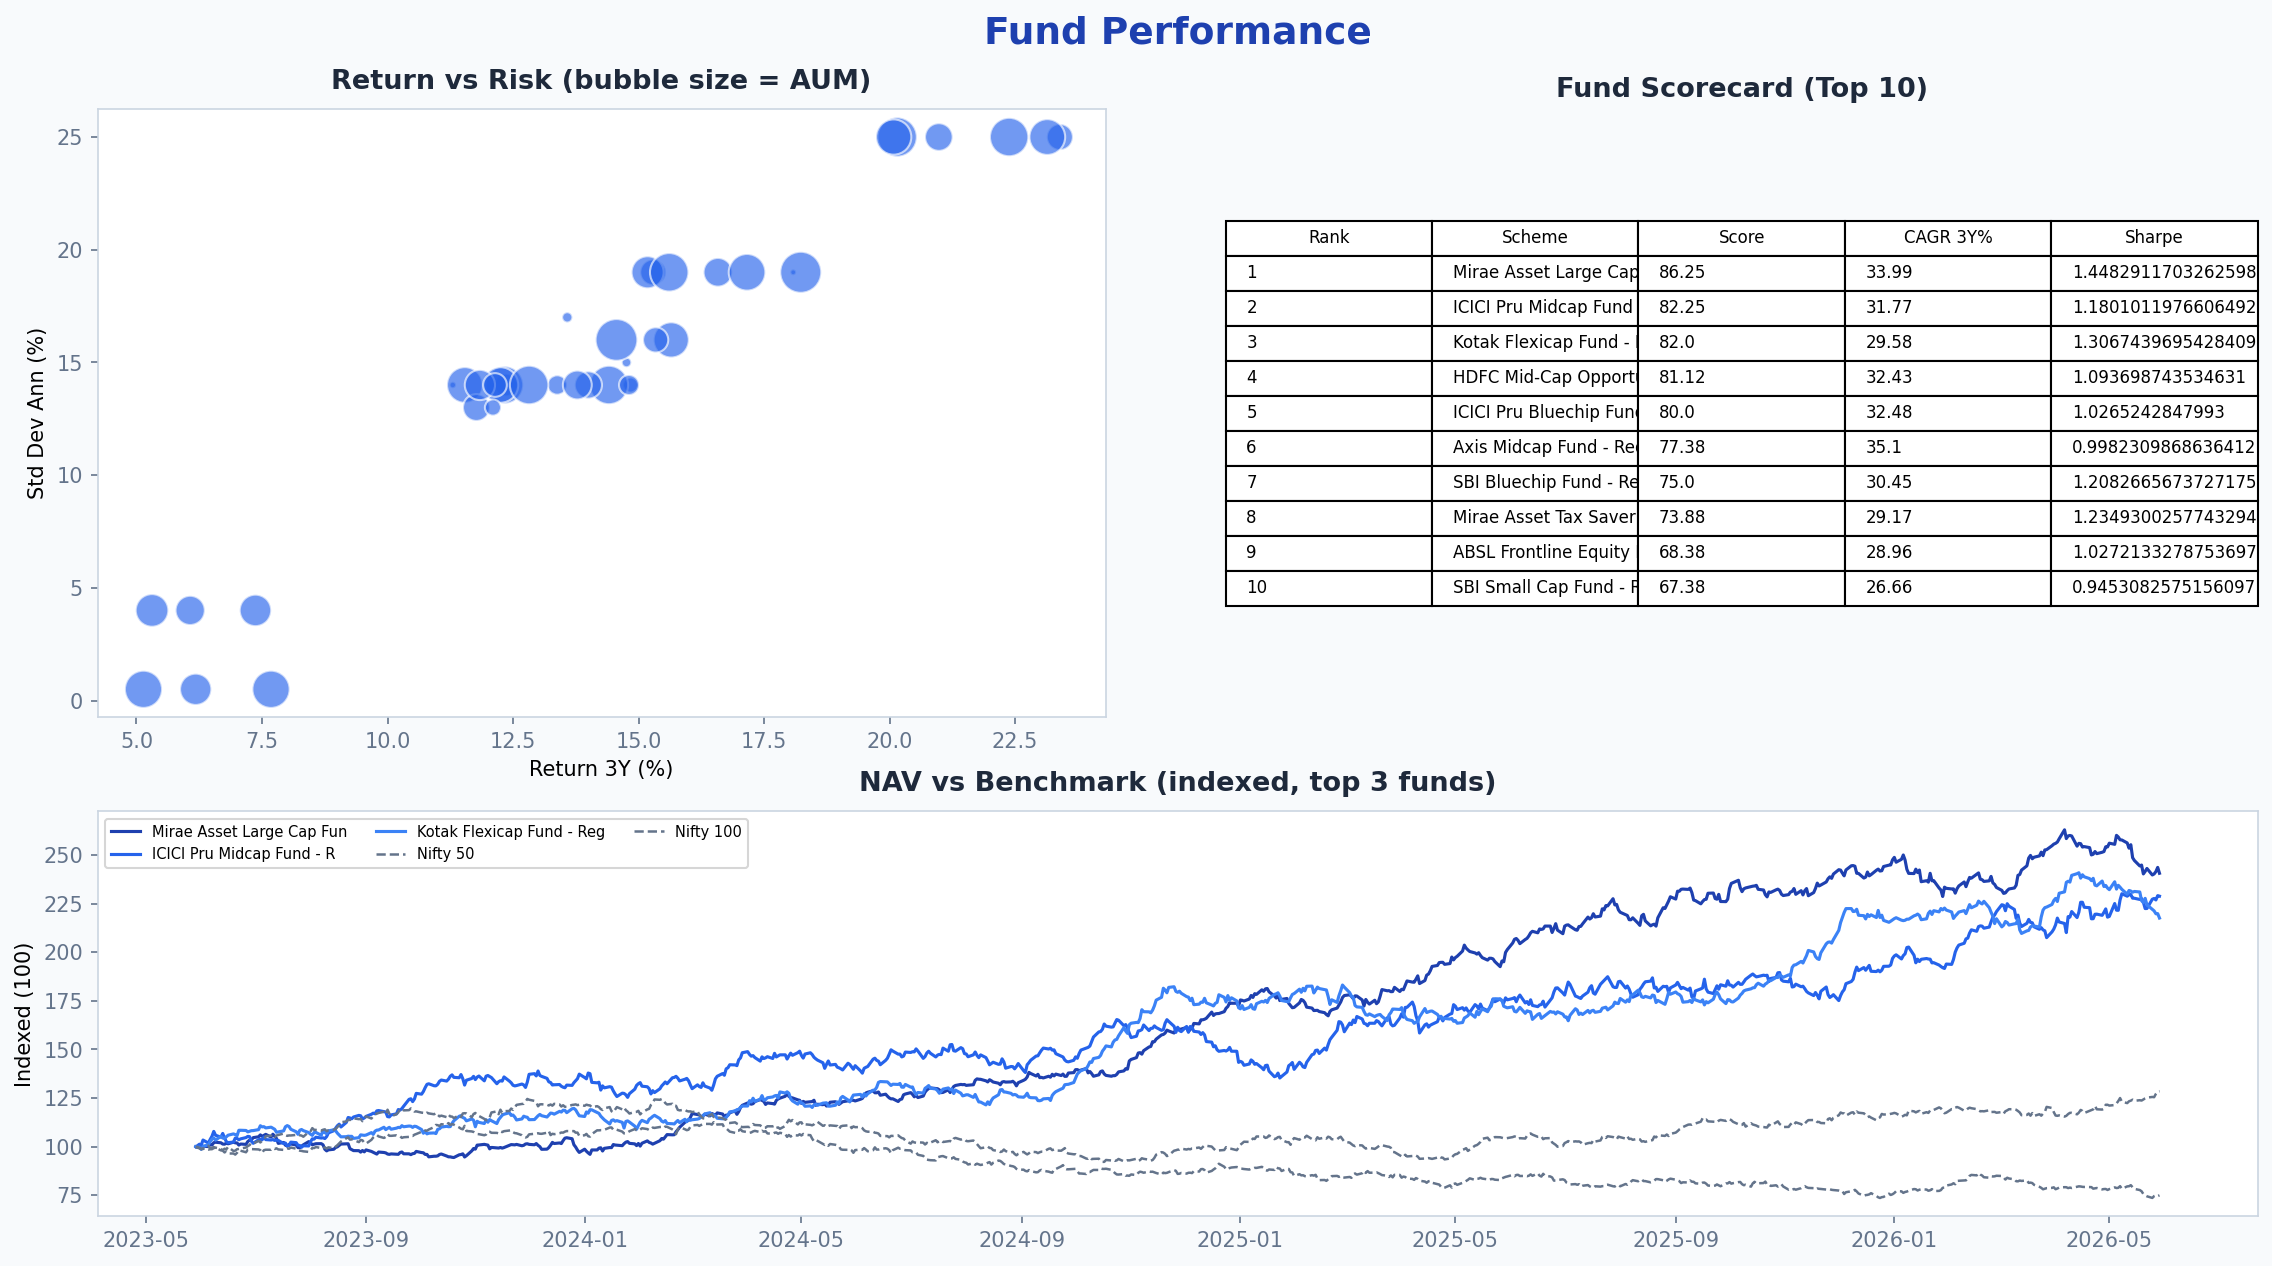

Layout of this report page (visuals, bound fields, positions):
{"tool":"powerbi","page":{"name":"Fund Performance","canvas":[1280,720],"ordinal":1},"visuals":[{"type":"image","box":[1100,0,160,50]},{"type":"slicer","fields":{"Values":["dim_fund.fund_house"]},"box":[20,20,200,100]},{"type":"slicer","fields":{"Values":["dim_fund.category"]},"box":[240,20,200,100]},{"type":"slicer","fields":{"Values":["dim_fund.plan"]},"box":[460,20,200,100]},{"type":"tableEx","fields":{"Values":["fund_scorecard.overall_rank","fund_scorecard.scheme_name","fund_scorecard.fund_score","fund_scorecard.cagr_3yr_pct","fund_scorecard.sharpe_ratio","fund_scorecard.alpha_pct"]},"box":[20,140,580,400]},{"type":"scatterChart","fields":{"X":["fact_performance.return_3yr_pct"],"Y":["fact_performance.std_dev_ann_pct"],"Size":["fact_performance.aum_crore"],"Details":["fact_performance.scheme_name"]},"box":[620,140,620,400]},{"type":"lineChart","fields":{"Category":["nav_vs_benchmark.date"],"Y":["nav_vs_benchmark.Indexed NAV"]},"box":[20,560,1220,150]}]}

Visuals, with their boxes in screenshot pixels (x1, y1, x2, y2), scaled from the page's 1280x720 canvas onto the 2272x1266 screenshot:
image: box(1952, 0, 2236, 88)
slicer - dim_fund.fund_house: box(36, 35, 390, 211)
slicer - dim_fund.category: box(426, 35, 781, 211)
slicer - dim_fund.plan: box(816, 35, 1172, 211)
tableEx - fund_scorecard.overall_rank x fund_scorecard.scheme_name: box(36, 246, 1065, 950)
scatterChart - fact_performance.return_3yr_pct x fact_performance.std_dev_ann_pct: box(1100, 246, 2201, 950)
lineChart - nav_vs_benchmark.date x nav_vs_benchmark.Indexed NAV: box(36, 985, 2201, 1248)
